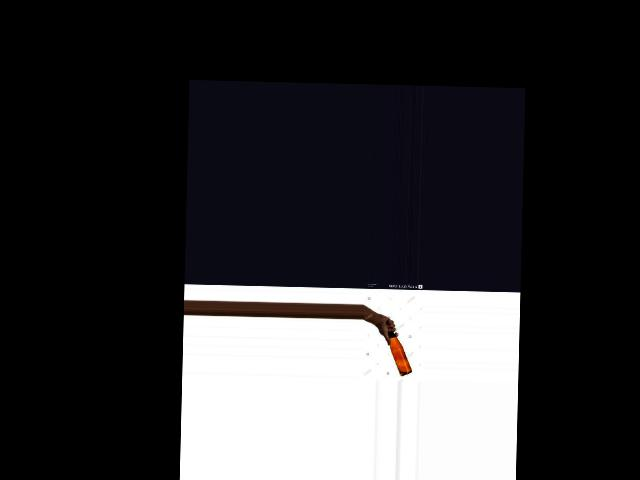beer: (384, 321, 412, 376)
